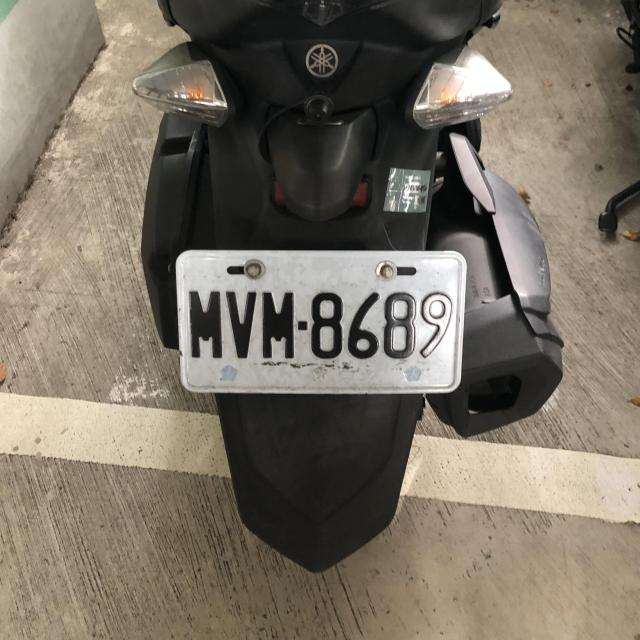W: (170, 240, 467, 398)
